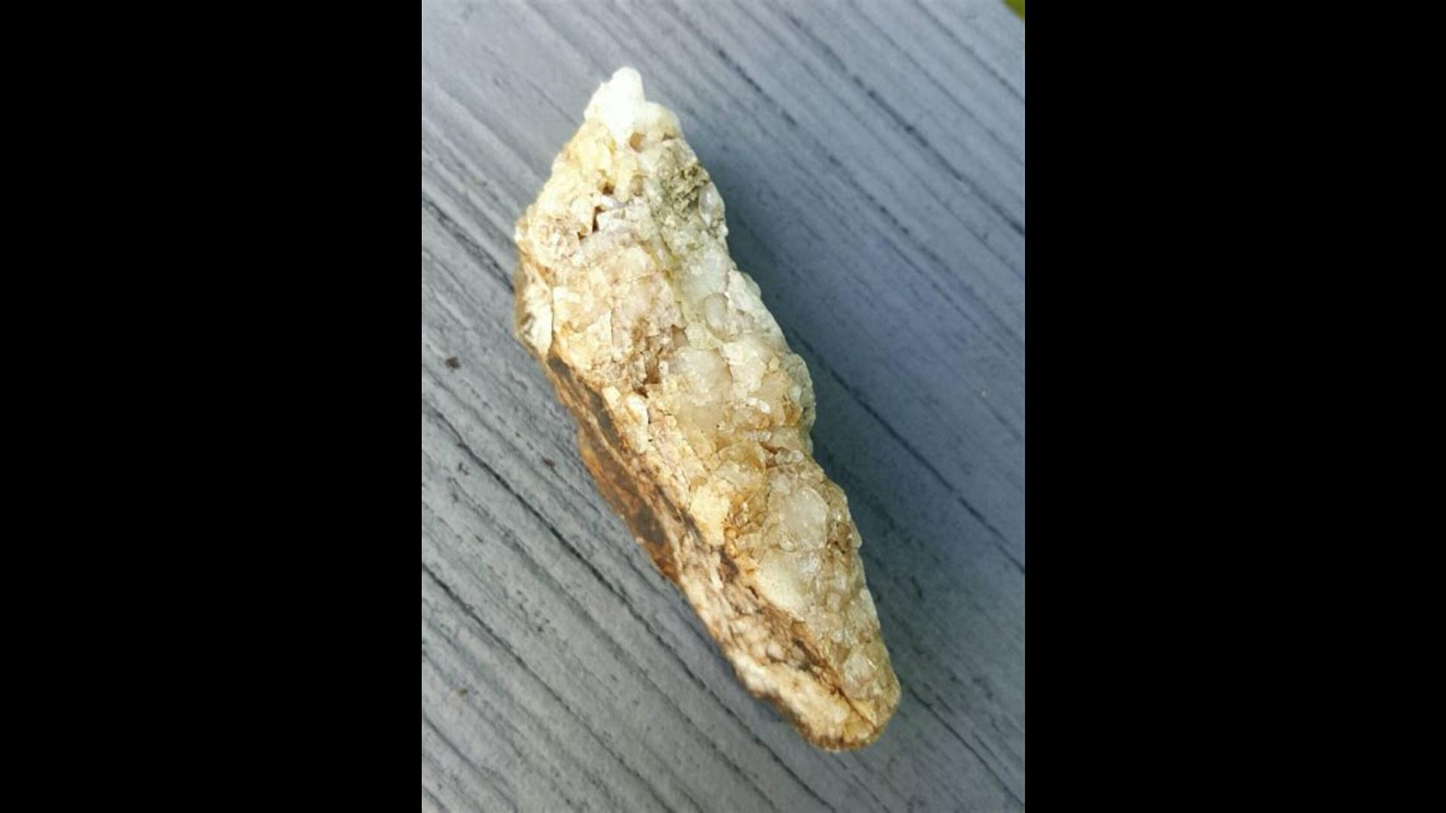rock: (516, 70, 897, 747)
